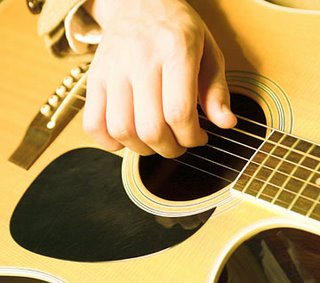guitar: (1, 1, 320, 283)
